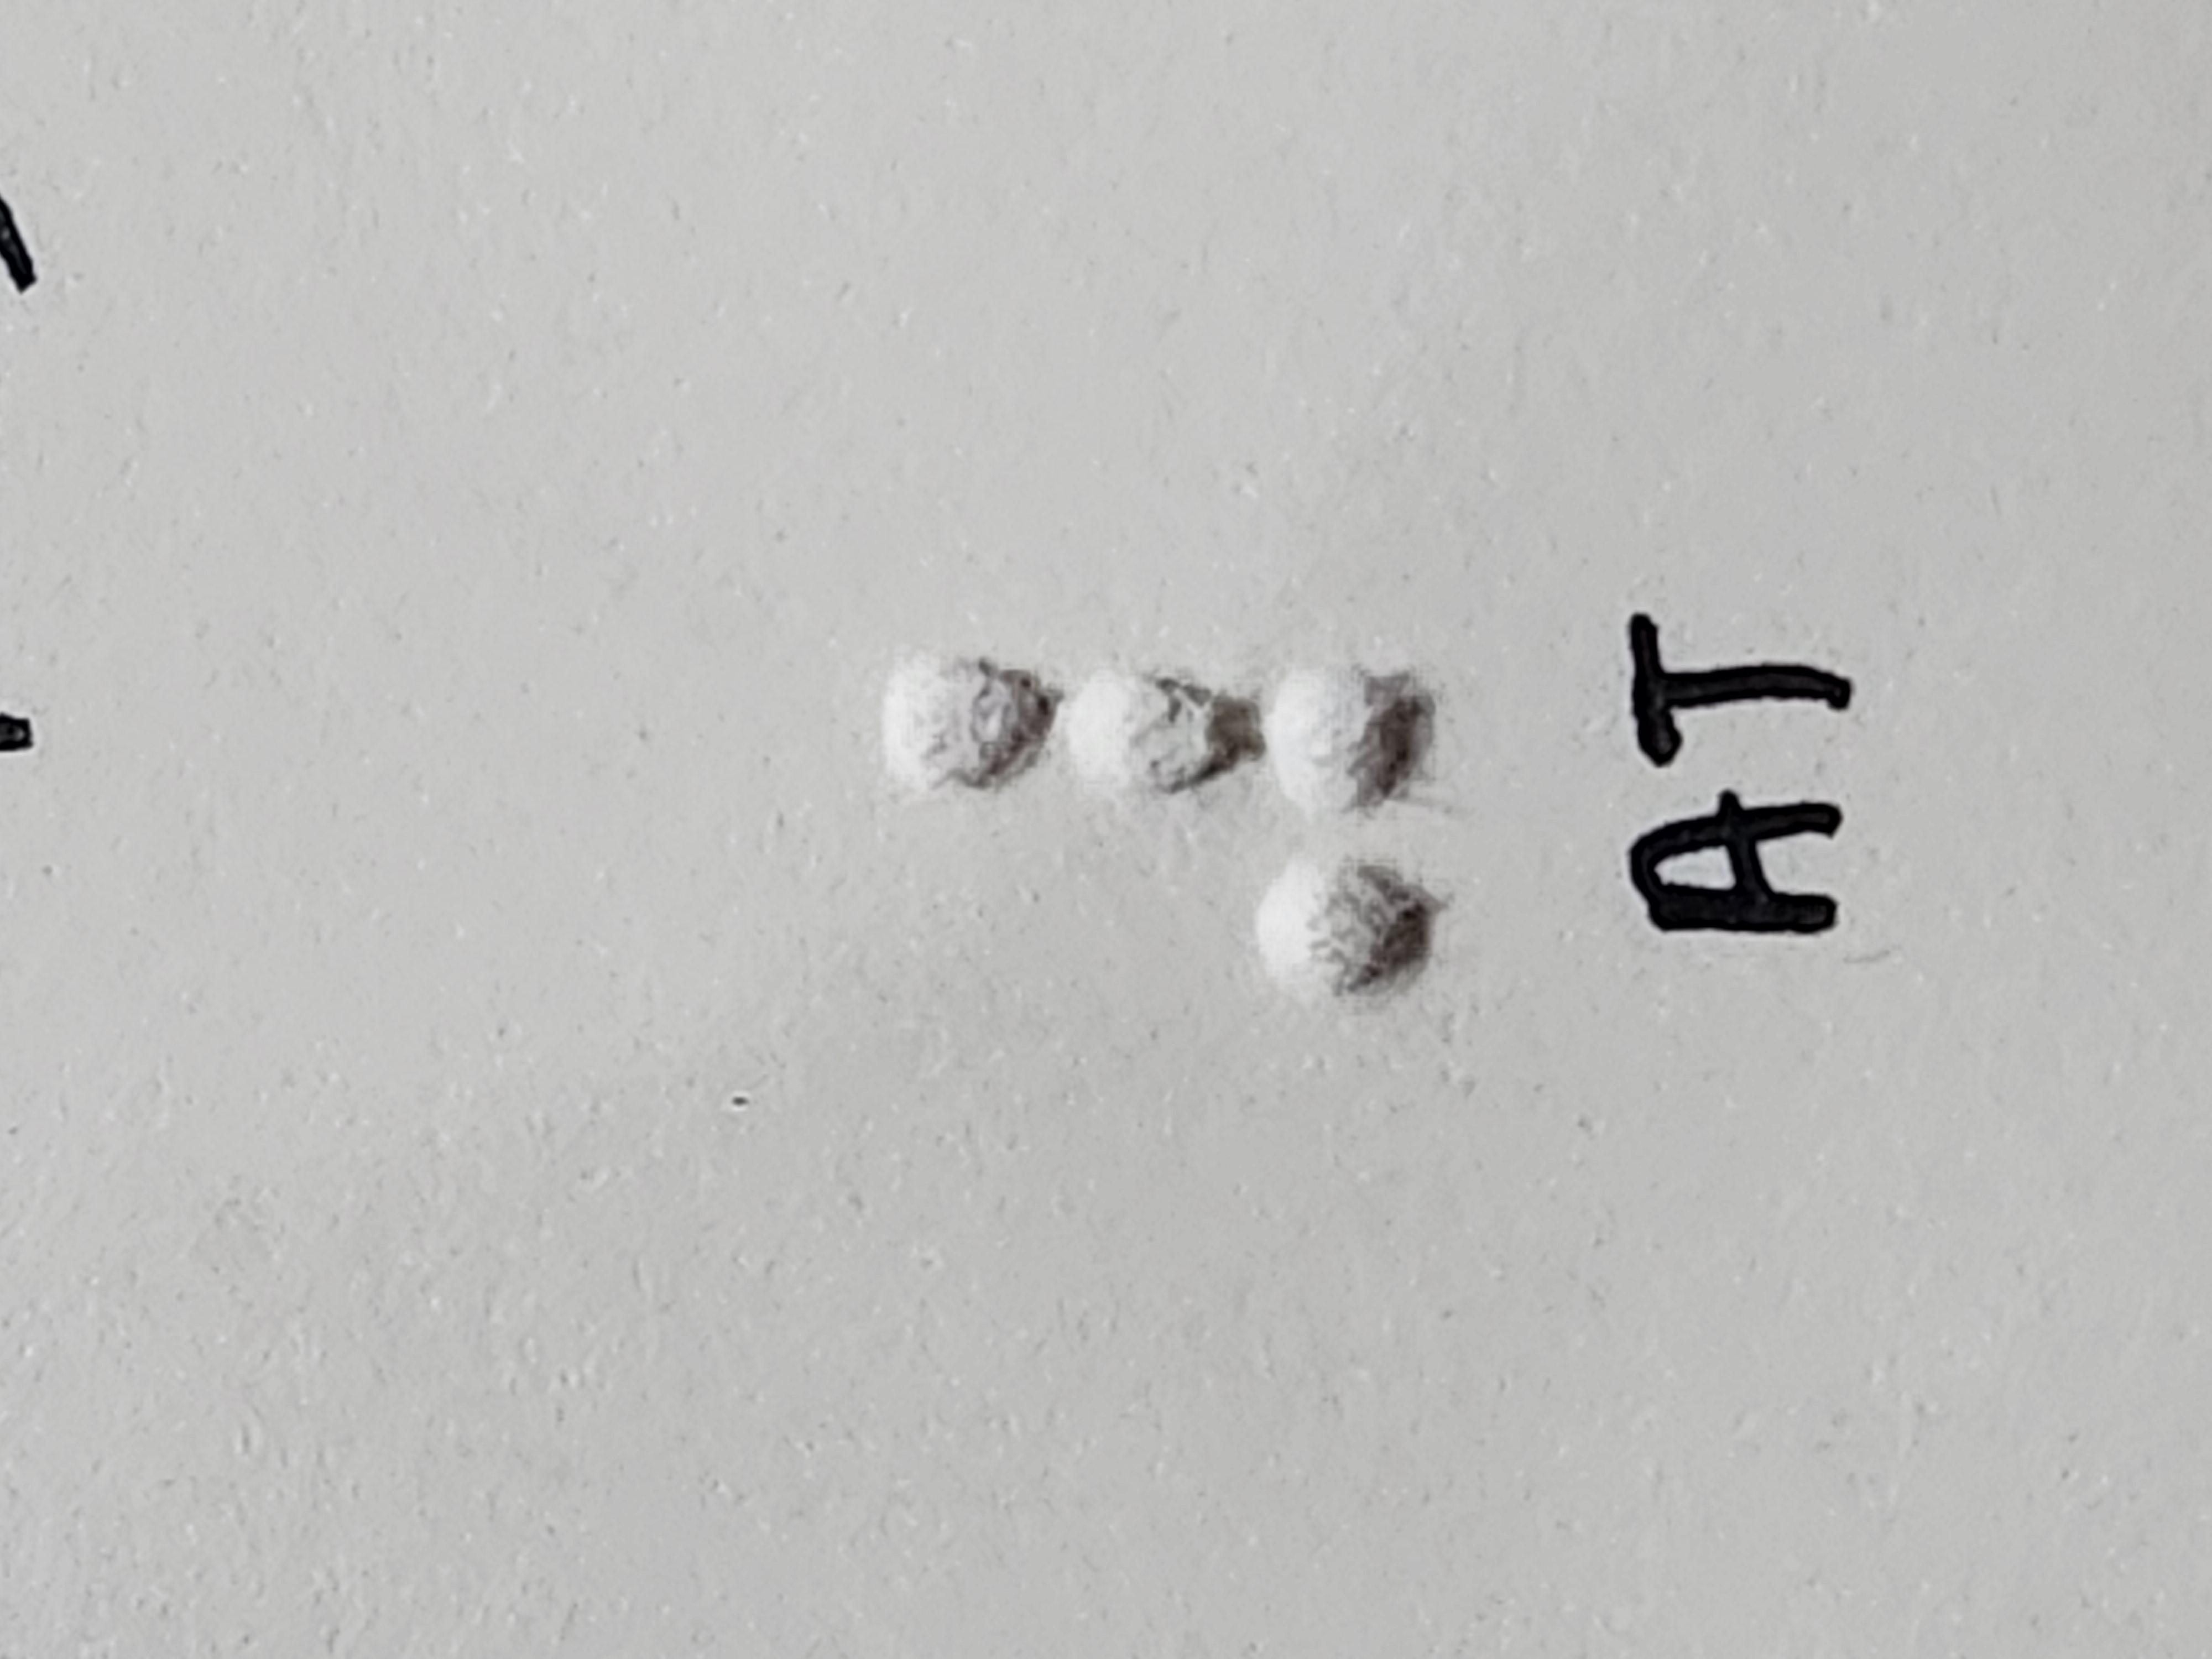one_cell_non_alphabet_at: (857, 660, 1334, 1073)
